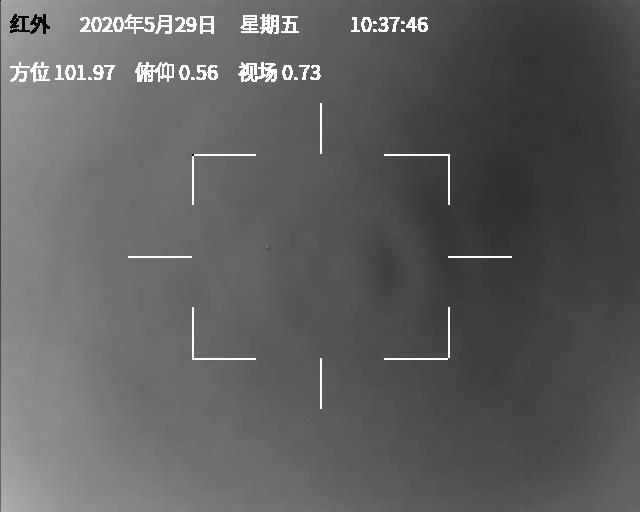uav: (264, 244, 273, 253)
